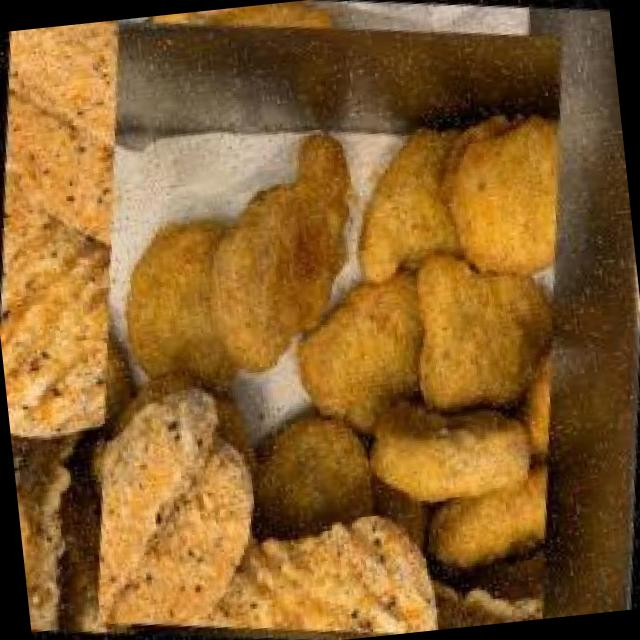chicken_nuggets: (4, 4, 640, 640)
